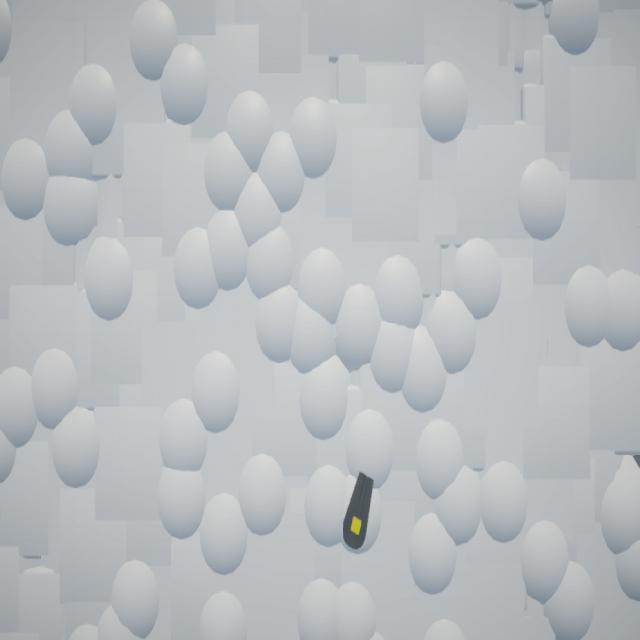handle_folk: (344, 473, 375, 551)
